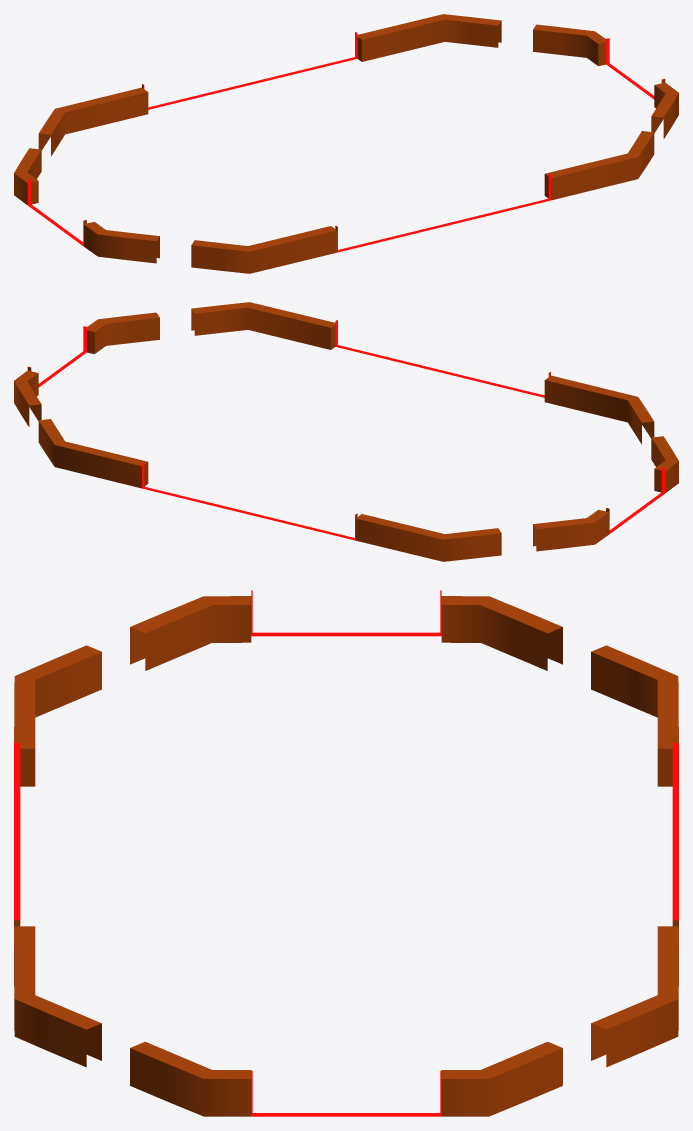
The model's file is mesh_SpaceShip_Walls_DM.fbx.
The picture shows the model from 3 angles, top to bottom: view 1: azimuth 30°, elevation 25°; view 2: azimuth 150°, elevation 25°; view 3: azimuth 270°, elevation 25°; orthographic projection. The views are drawn at different scales.
Visible parts, largest first — view 1: mesh_spaceship_DM_Wall; view 2: mesh_spaceship_DM_Wall; view 3: mesh_spaceship_DM_Wall.
Part boxes in pixels (x1,y1,x2,y2): mesh_spaceship_DM_Wall: (14, 14, 678, 273); mesh_spaceship_DM_Wall: (14, 302, 678, 561); mesh_spaceship_DM_Wall: (14, 590, 678, 1116).
Size of the model in its own units: 59.68 by 2.51 by 34.73.
